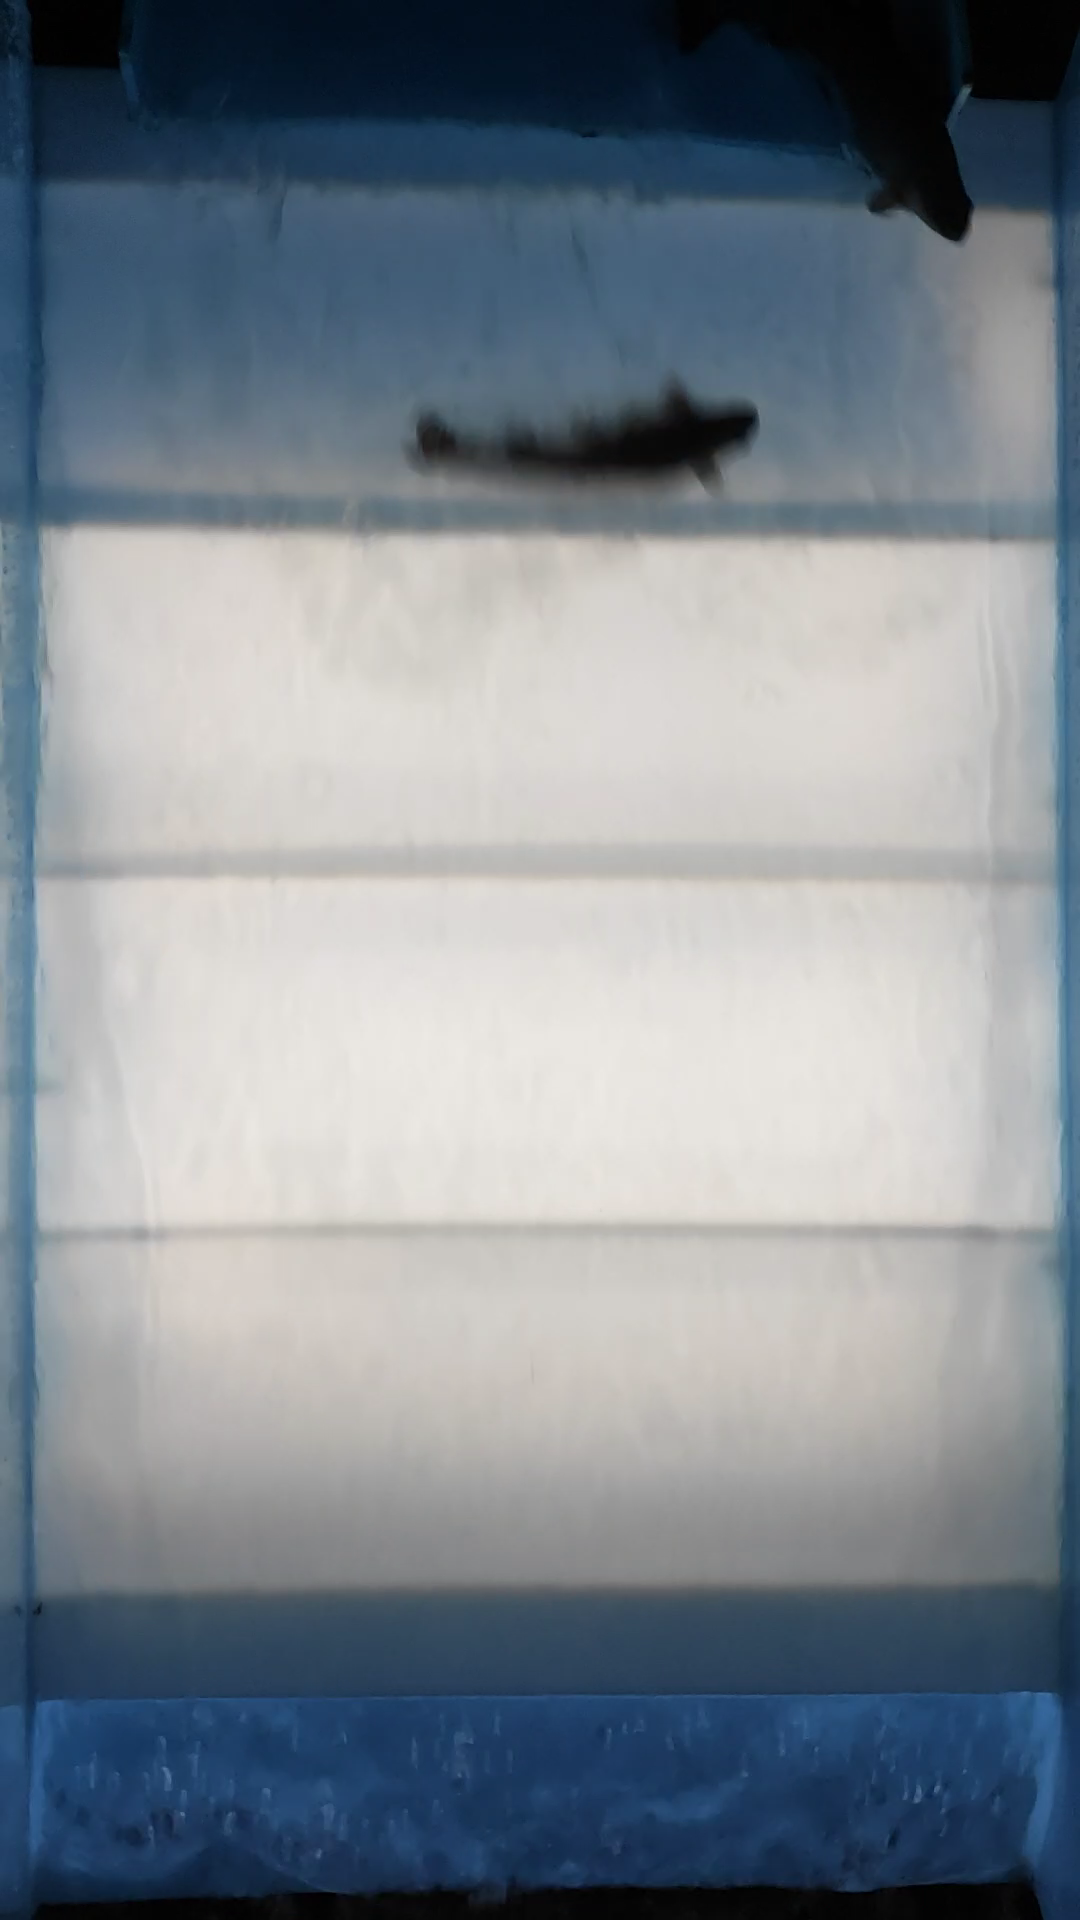fish: (398, 374, 766, 506)
